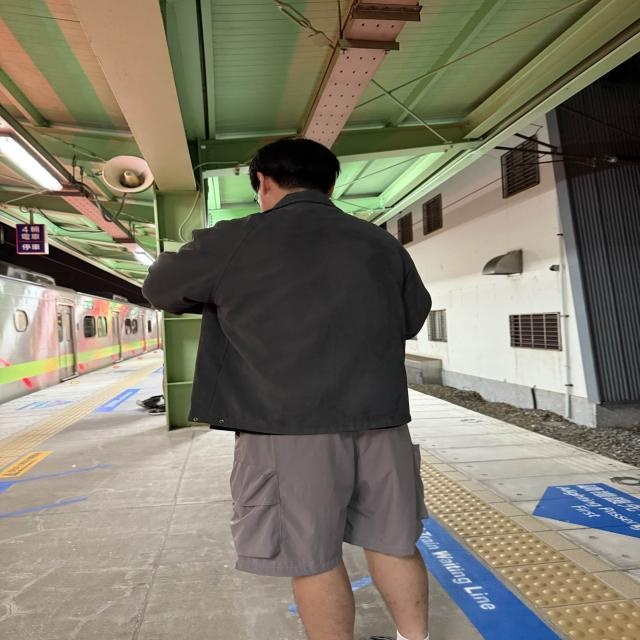Sin_Casco_Mascarrilla: (251, 136, 343, 205)
Sin_Chaleco: (215, 212, 408, 428)
